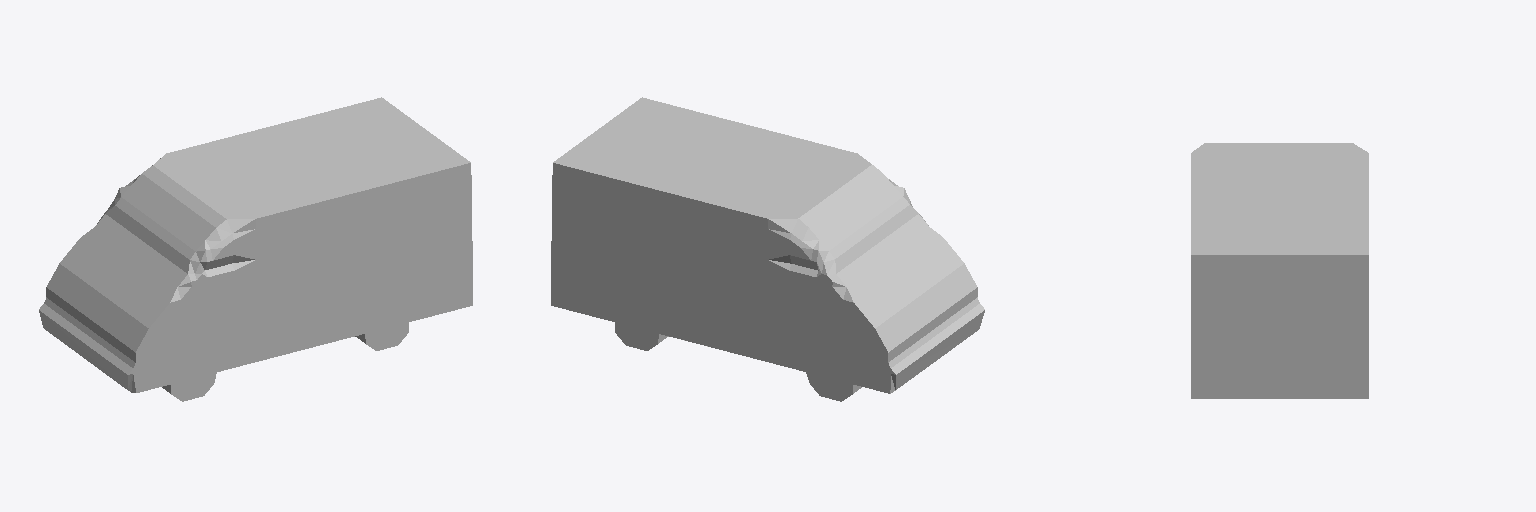
Rendered from food_truck2.obj.
The picture shows the model from 3 angles: view 1: azimuth 30°, elevation 25°; view 2: azimuth 150°, elevation 25°; view 3: azimuth 270°, elevation 25°; orthographic projection.
Parts seen in each view (by area): view 1: Cube_Material.002; view 2: Cube_Material.002; view 3: Cube_Material.002.
Part boxes in pixels (bbox=[...]): Cube_Material.002: bbox=[39, 97, 472, 401]; Cube_Material.002: bbox=[551, 97, 984, 401]; Cube_Material.002: bbox=[1191, 143, 1368, 398].
Size of the model in its own units: 3.05 by 1.42 by 1.37.